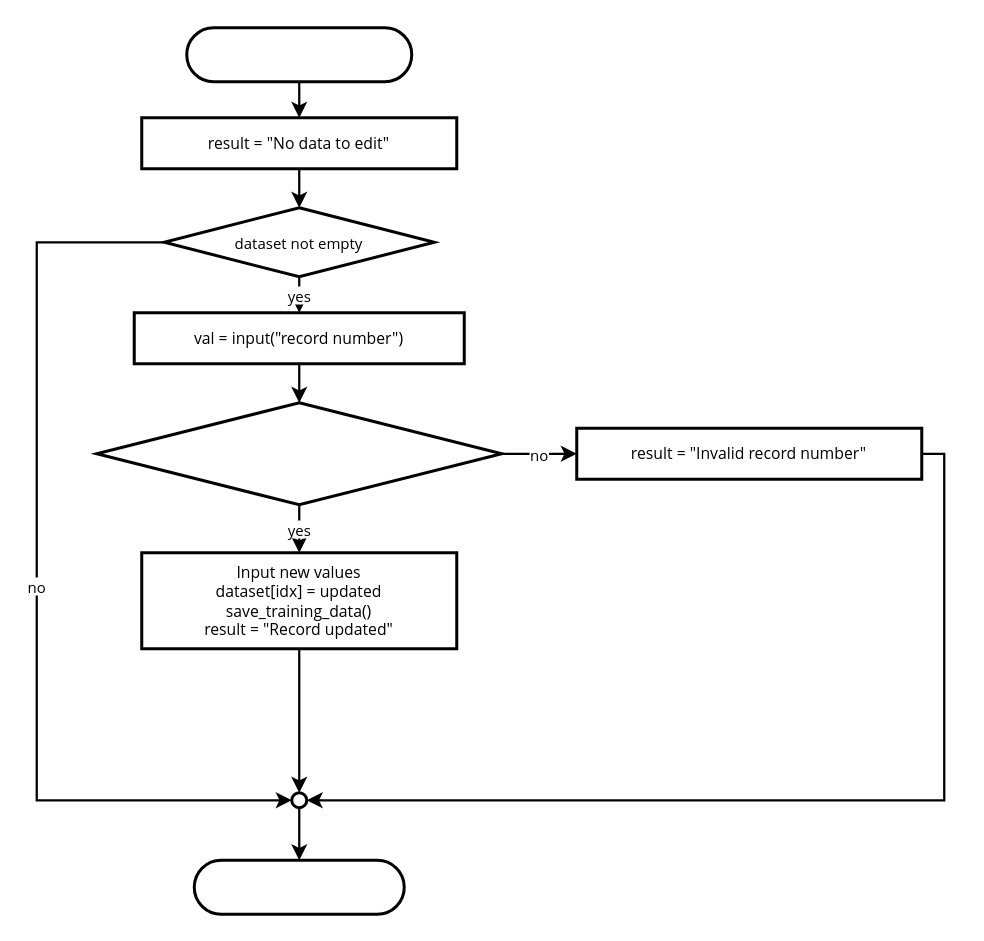
Image size: 984x941. Some labels were removed from this diagram. The centre of each missing label's shape, as x and y in pixels:
edit_training_data(): point (298, 54)
return result: point (298, 886)
val.isdigit() & 0 <= idx < len(dataset): point (298, 453)
